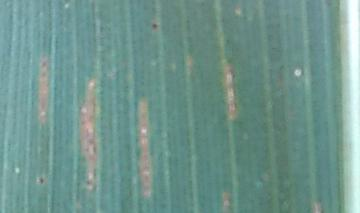tarspot: (34, 175, 47, 186), (150, 20, 161, 33)
